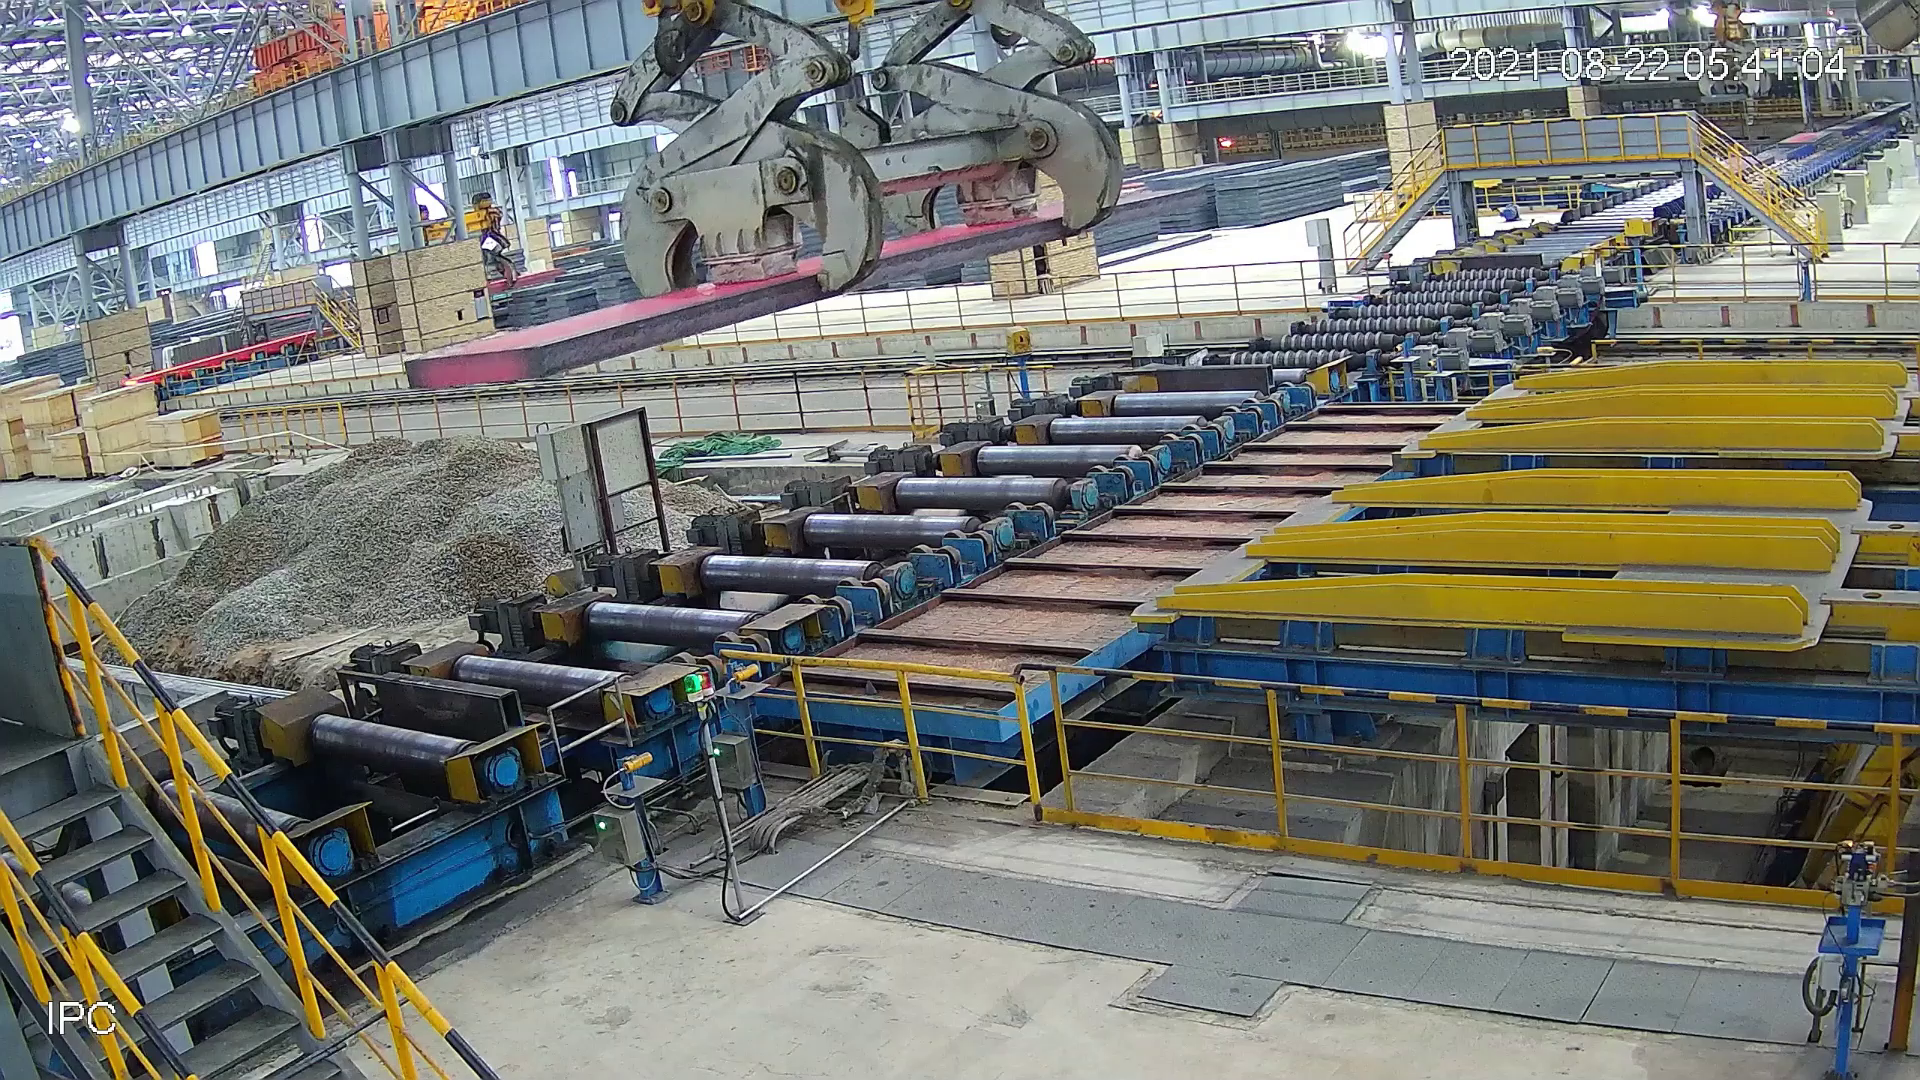craneandslab: (400, 3, 1208, 397), (1688, 1, 1785, 109)
